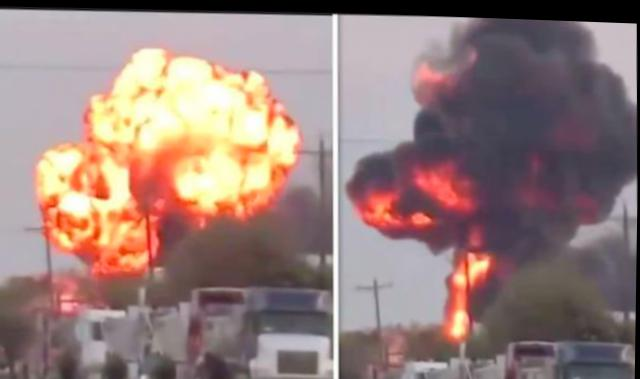fire: (115, 42, 304, 214), (35, 94, 113, 284), (114, 187, 155, 267), (413, 160, 462, 208), (360, 194, 403, 227), (451, 260, 470, 334), (467, 246, 487, 276), (409, 208, 436, 222)
smoke: (466, 14, 585, 222), (575, 16, 639, 226), (582, 223, 637, 315), (395, 106, 466, 158), (499, 222, 577, 259), (399, 25, 460, 60)
